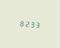eight: (18, 19, 22, 27)
three: (28, 19, 32, 28), (33, 20, 37, 28)
two: (23, 19, 27, 27)
